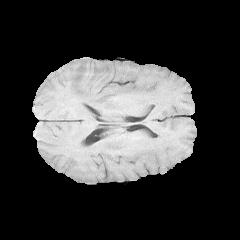glioma: (68, 60, 135, 115)
